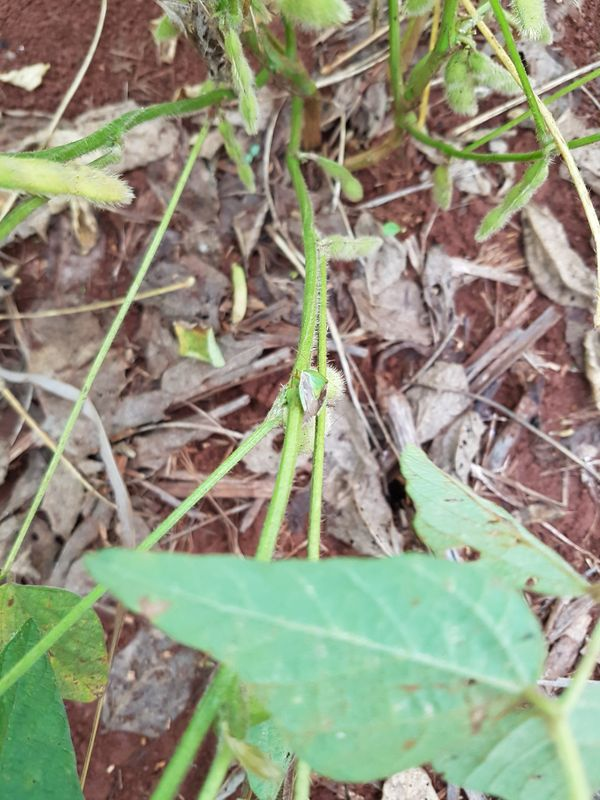Edessa_meditabunda: (284, 355, 347, 430)
